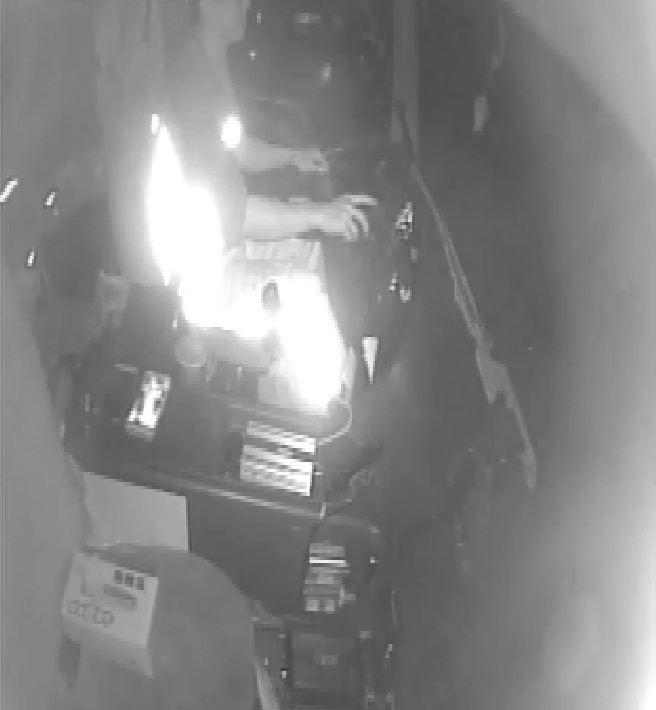cellphone: (129, 364, 169, 441)
